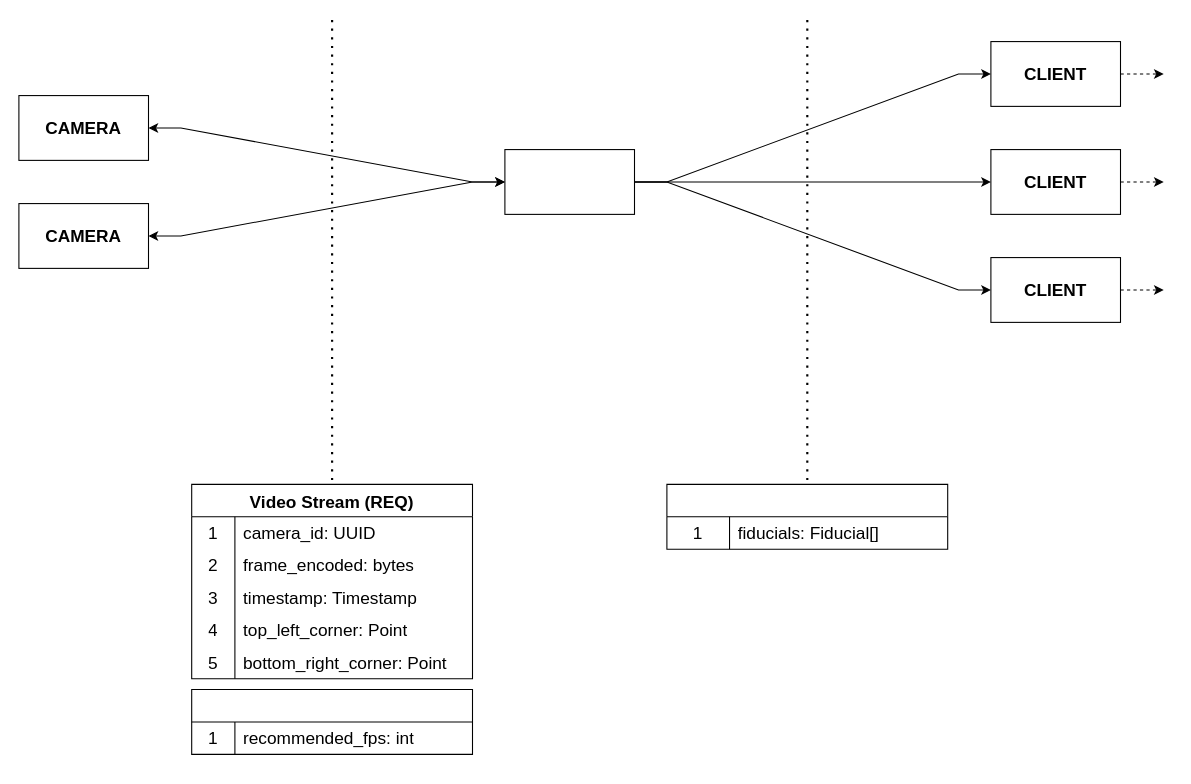
This 1191x784 diagram has some shape labels left out. Each missing label, with the box of its shape:
Location Stream (PUB/SUB): (666, 483, 948, 549)
SERVER: (504, 148, 634, 214)
Video Stream (REP): (191, 688, 473, 754)
